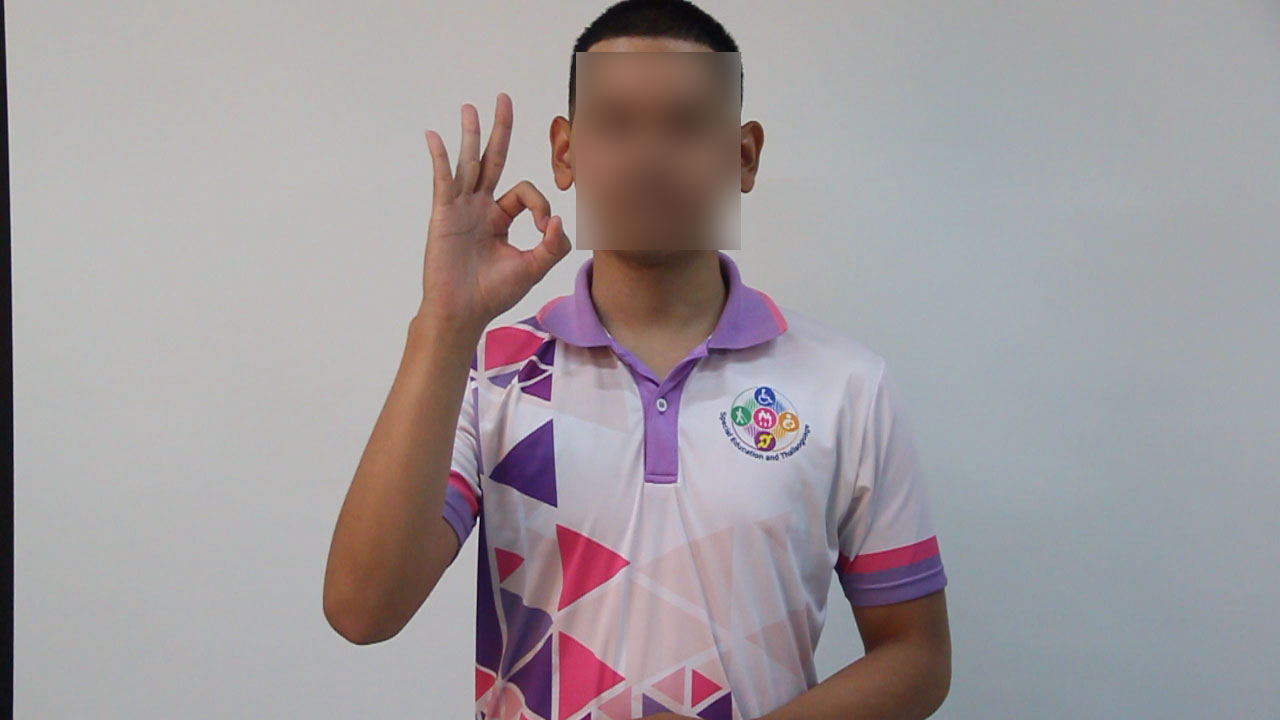for: (394, 86, 577, 340)
